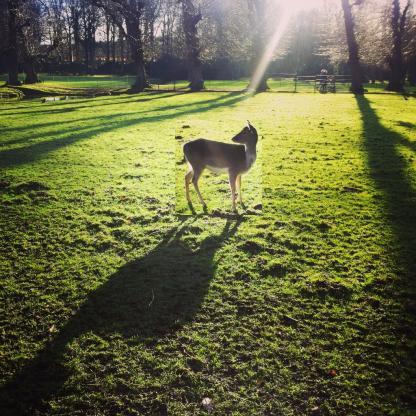Deer: (175, 120, 262, 215)
